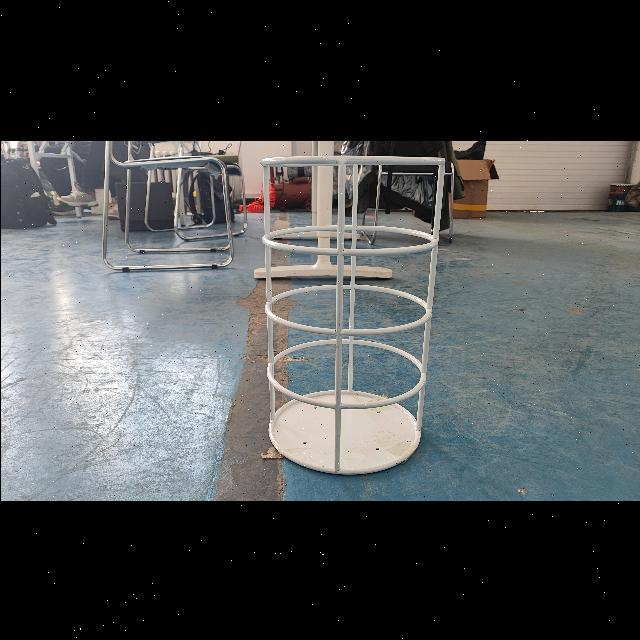S: (255, 147, 450, 480)
